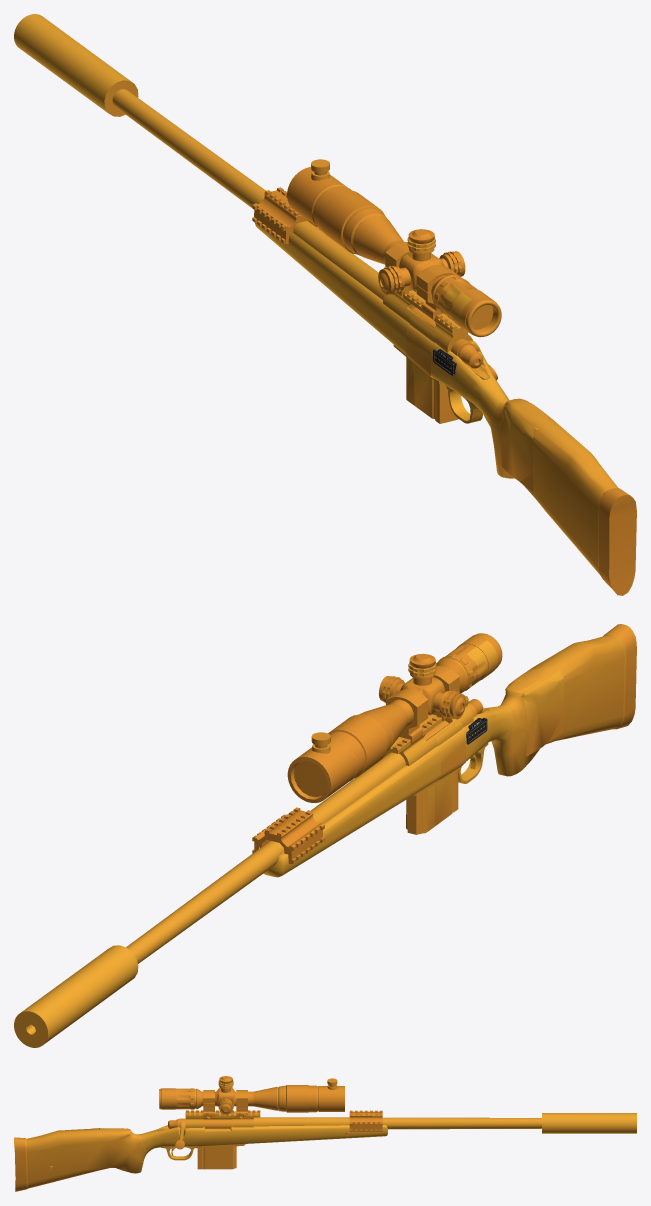
The picture shows the model from 3 angles, top to bottom: view 1: azimuth 30°, elevation 25°; view 2: azimuth 150°, elevation 25°; view 3: azimuth 270°, elevation 25°; orthographic projection. The views are drawn at different scales.
Visible parts, largest first — view 1: LOD_Template, Sticker4, Sticker2, Sticker1, Gunlock1; view 2: LOD_Template, Sticker4, Sticker1, Magazine1, Sticker2, Sticker3; view 3: LOD_Template, Magazine1, Gunlock1.
Part boxes in pixels (<box>): LOD_Template: <box>14,14,636,595</box>; Sticker4: <box>500,404,537,492</box>; Sticker2: <box>406,357,434,418</box>; Sticker1: <box>406,317,435,378</box>; Gunlock1: <box>411,307,497,380</box>; LOD_Template: <box>14,624,636,1047</box>; Sticker4: <box>522,669,563,756</box>; Sticker1: <box>436,721,465,783</box>; Magazine1: <box>406,770,458,834</box>; Sticker2: <box>427,774,452,831</box>; Sticker3: <box>467,640,497,686</box>; LOD_Template: <box>14,1076,636,1191</box>; Magazine1: <box>197,1146,236,1169</box>; Gunlock1: <box>168,1118,232,1149</box>.
Bounding box in the file's own units: 0.0771 × 0.2009 × 0.9948.
6 materials, 6 textured.
